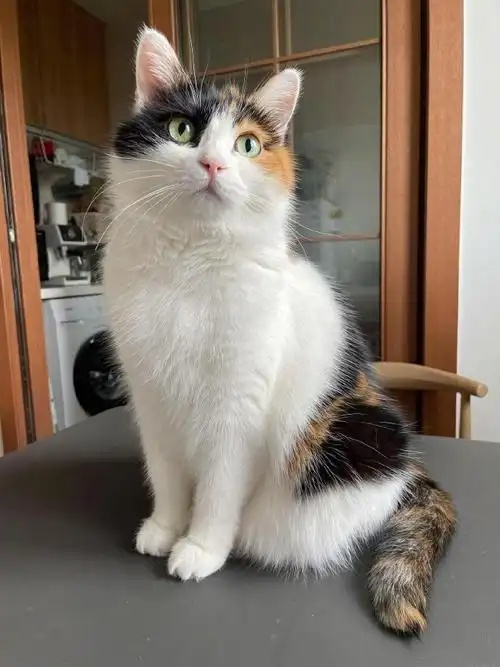三花猫: (108, 225, 402, 577), (114, 26, 376, 355)
